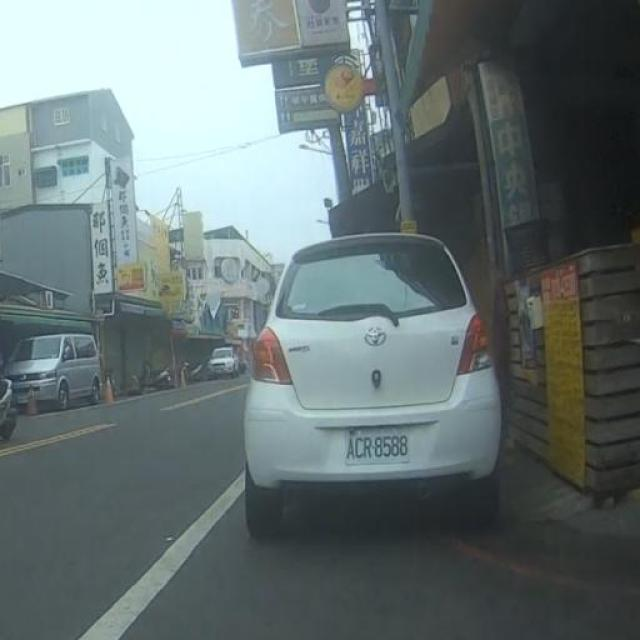Legalparking: (8, 335, 100, 410)
illegalparking: (245, 232, 501, 538)
